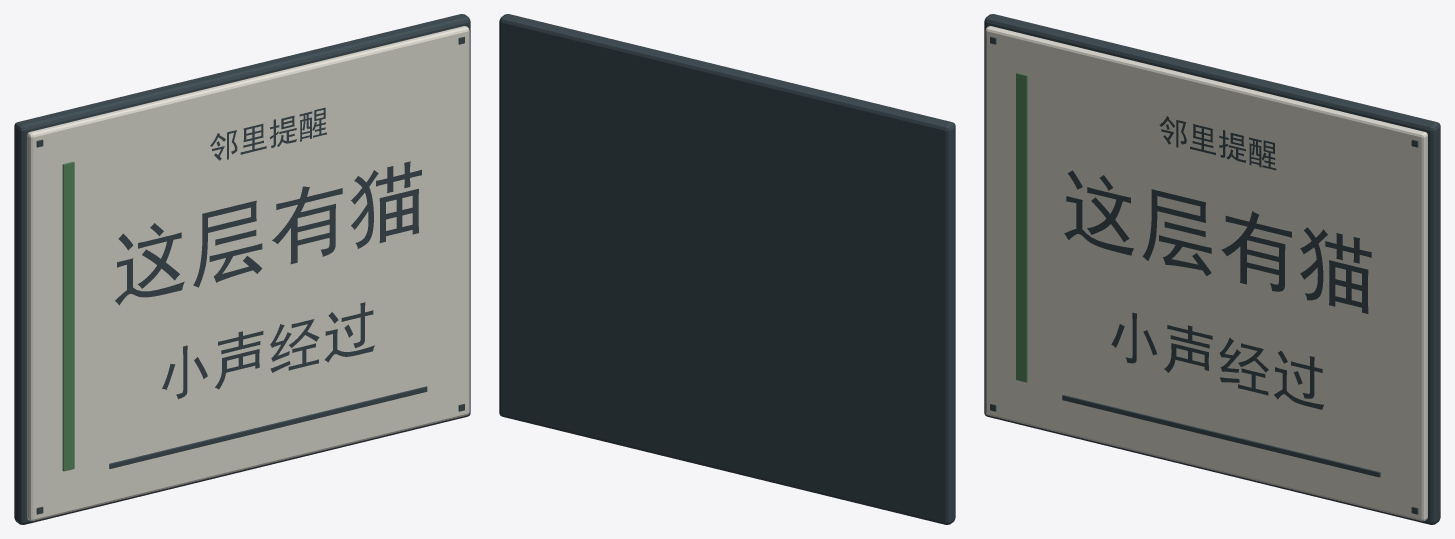
File: CityNoticeCat.fbx
3 renders of one model, left to right at view 1: azimuth 30°, elevation 25°; view 2: azimuth 150°, elevation 25°; view 3: azimuth 330°, elevation 25°, orthographic.
Parts seen in each view (by area): view 1: CityNoticeCat_SC_Concrete, CityNoticeCat_SC_Metal, CityNoticeCat_SC_Foliage; view 2: CityNoticeCat_SC_Metal; view 3: CityNoticeCat_SC_Concrete, CityNoticeCat_SC_Metal, CityNoticeCat_SC_Foliage.
Part boxes in pixels (bbox=[...]): CityNoticeCat_SC_Concrete: bbox=[27, 26, 469, 521]; CityNoticeCat_SC_Metal: bbox=[14, 14, 470, 524]; CityNoticeCat_SC_Foliage: bbox=[62, 161, 74, 471]; CityNoticeCat_SC_Metal: bbox=[499, 14, 955, 524]; CityNoticeCat_SC_Concrete: bbox=[985, 26, 1427, 521]; CityNoticeCat_SC_Metal: bbox=[984, 14, 1440, 524]; CityNoticeCat_SC_Foliage: bbox=[1016, 72, 1027, 382].
Bounding box in the file's own units: 2.6 × 2.2 × 0.145.
